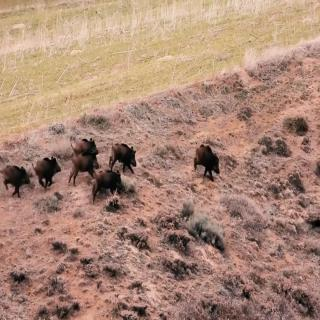Pig: (28, 143, 63, 190), (86, 168, 127, 205), (106, 131, 142, 173), (190, 138, 222, 184), (0, 154, 27, 202), (70, 148, 96, 181)
